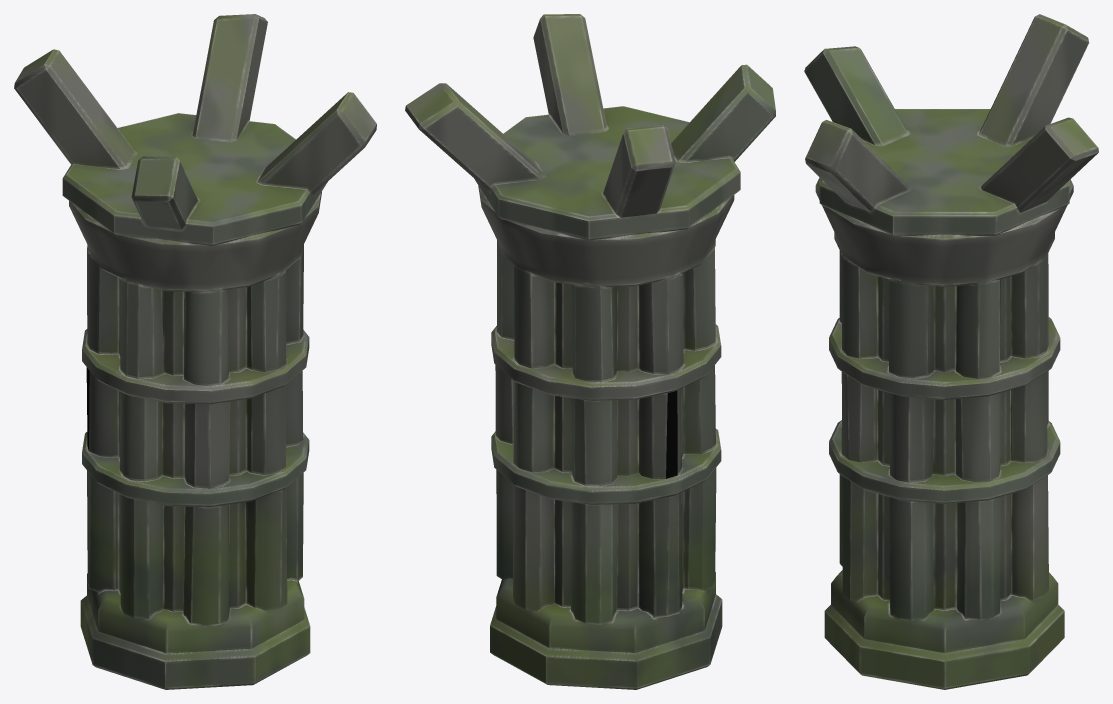
The model's file is crypt_pillar.glb.
3 renders of one model, left to right at view 1: azimuth 30°, elevation 25°; view 2: azimuth 150°, elevation 25°; view 3: azimuth 270°, elevation 25°, orthographic.
Parts seen in each view (by area): view 1: crypt_pillar; view 2: crypt_pillar; view 3: crypt_pillar.
Boxes of the visible parts, <box> form: crypt_pillar: <box>14,14,376,689</box>; crypt_pillar: <box>405,14,775,689</box>; crypt_pillar: <box>804,14,1098,689</box>.
Bounding box in the file's own units: 2.76 × 5.82 × 2.7.
Materials: 1 (1 with a texture image).
